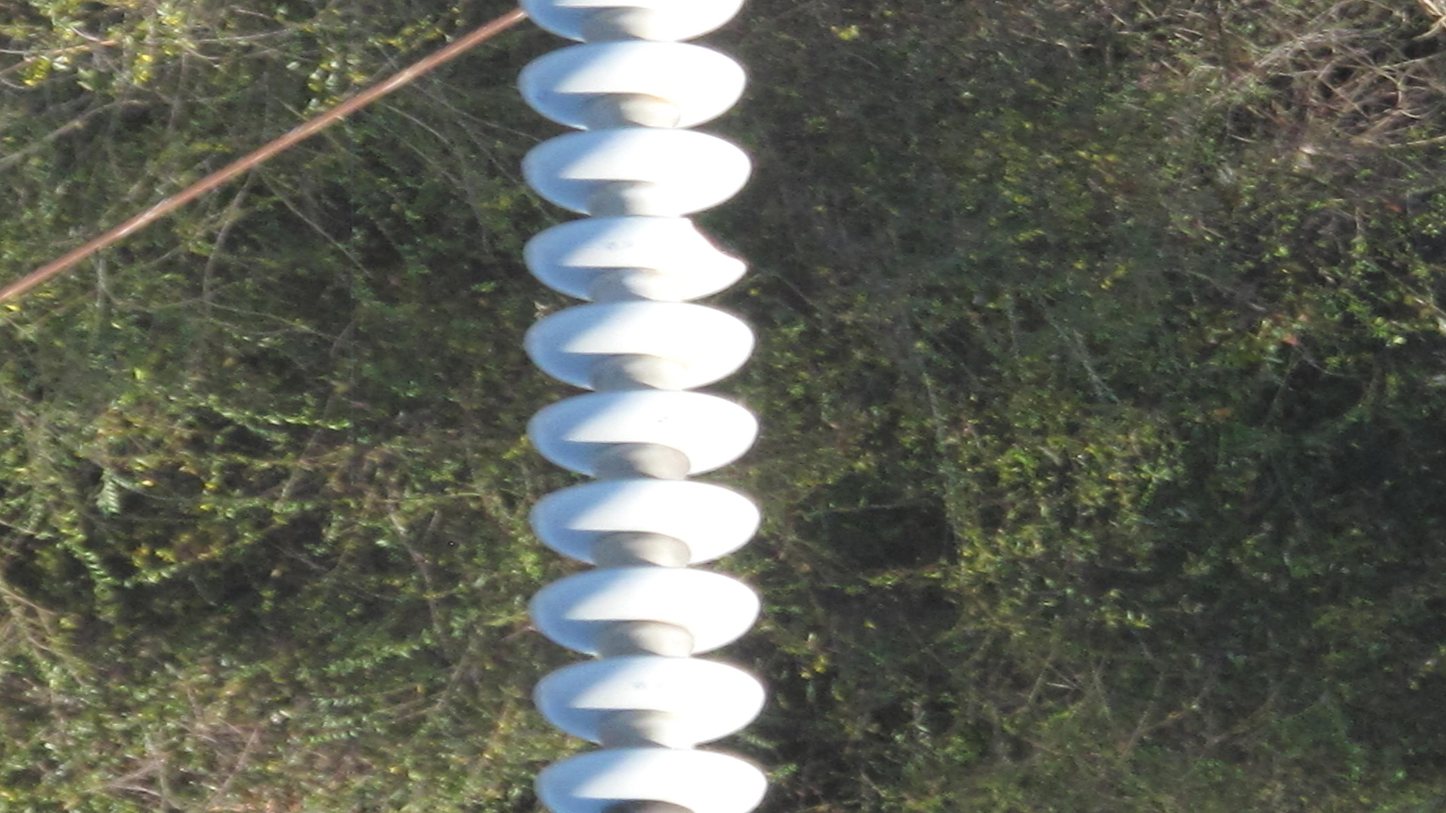insulator: (508, 1, 773, 813)
insulator_breakage: (679, 211, 750, 278)
